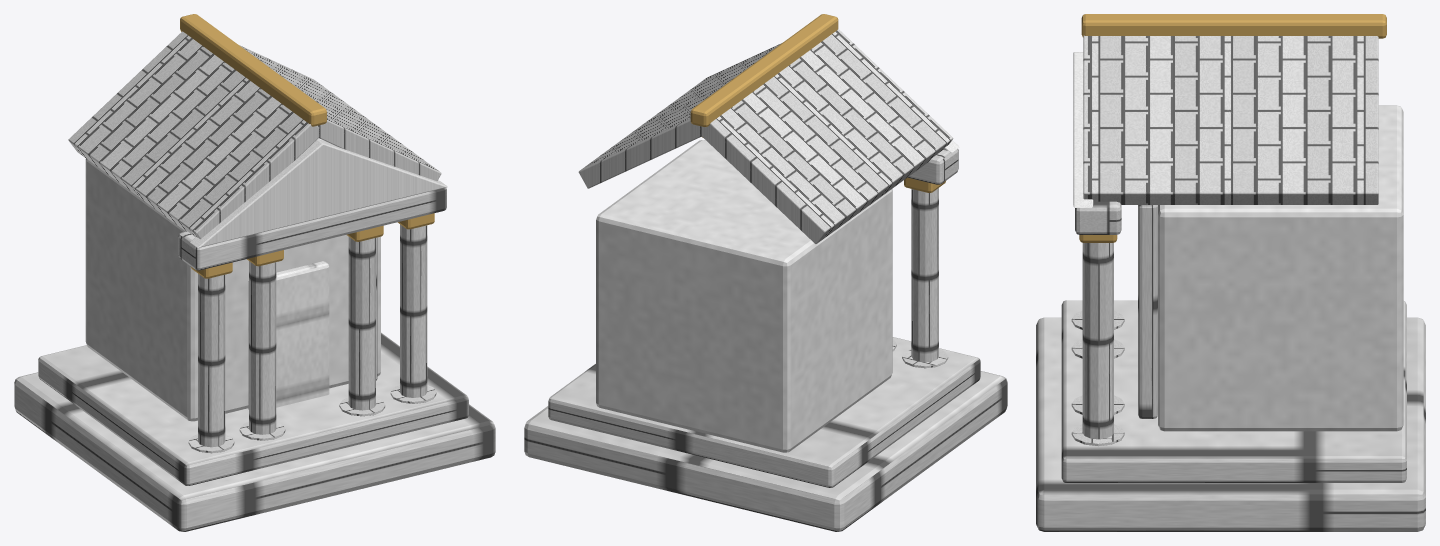
Rendered from temple.glb.
3 renders of one model, left to right at view 1: azimuth 30°, elevation 25°; view 2: azimuth 150°, elevation 25°; view 3: azimuth 270°, elevation 25°, orthographic. The views are drawn at different scales.
Parts seen in each view (by area): view 1: TempleSanctuary_Geometry; view 2: TempleSanctuary_Geometry; view 3: TempleSanctuary_Geometry.
Part boxes in pixels (left/top/right/bottom): TempleSanctuary_Geometry: left=14, top=14, right=495, bottom=531; TempleSanctuary_Geometry: left=524, top=14, right=1007, bottom=531; TempleSanctuary_Geometry: left=1036, top=14, right=1425, bottom=531.
Bounding box in the file's own units: 2.55 × 2.85 × 2.35.
8 materials, 6 textured.
